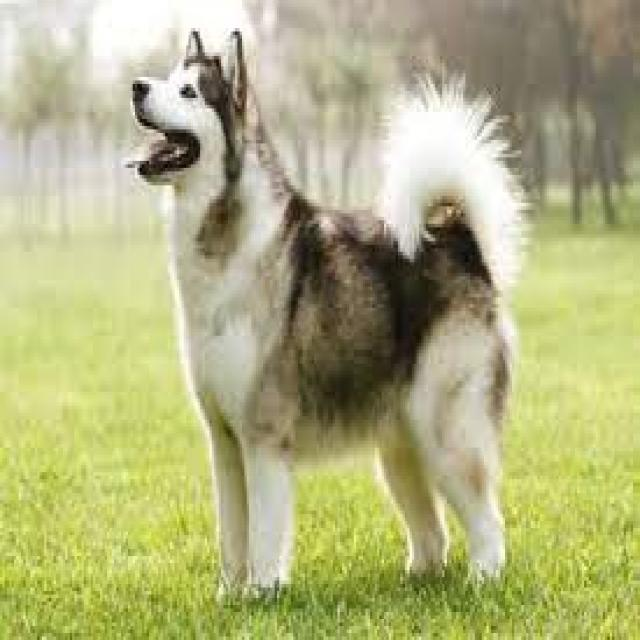Dog: (125, 19, 533, 605)
